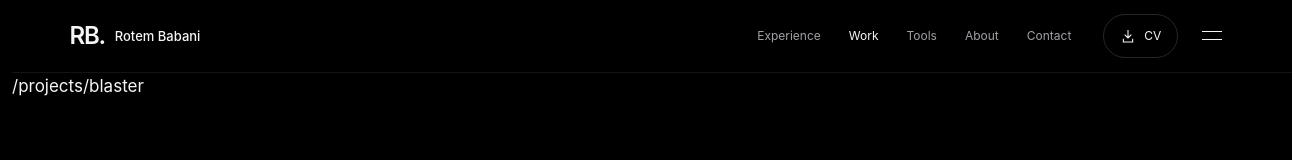
homepage section navigation › returns from an interior page to experience through primary navigation
(page scrolled)
Step 1. Click the link "Experience" → (789, 35), box [757,28,821,43]
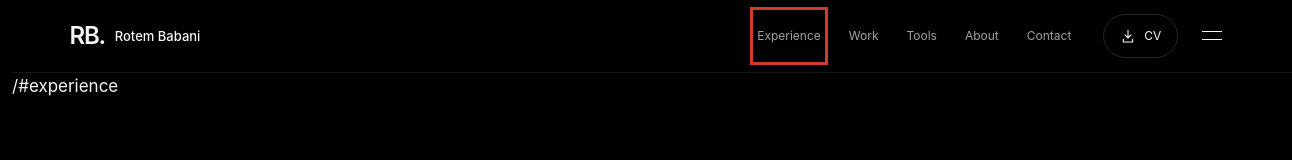
expect the text with test id "location" reads "/#experience": met, box [12,76,118,96]
